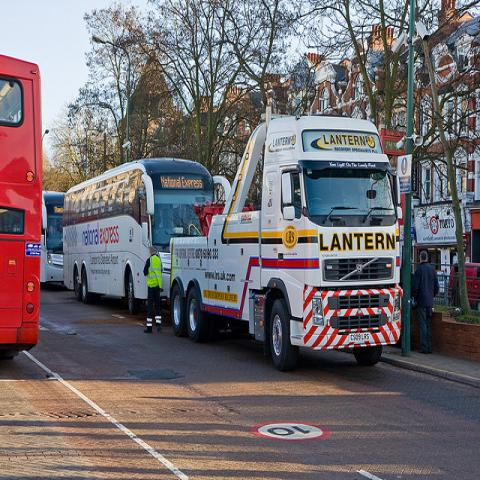bus: (59, 153, 232, 323), (1, 54, 43, 361), (42, 188, 64, 288)
car: (446, 262, 480, 310)
truck: (164, 117, 402, 371)
